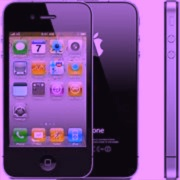iphone: (2, 1, 93, 180)
